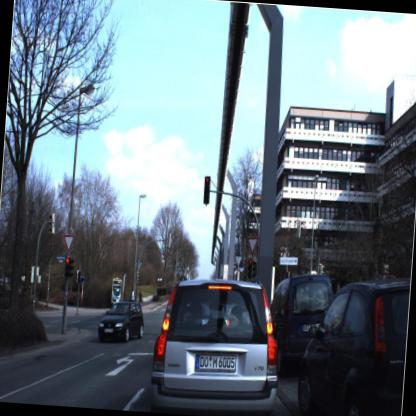other: (60, 232, 76, 258), (245, 232, 260, 257)
